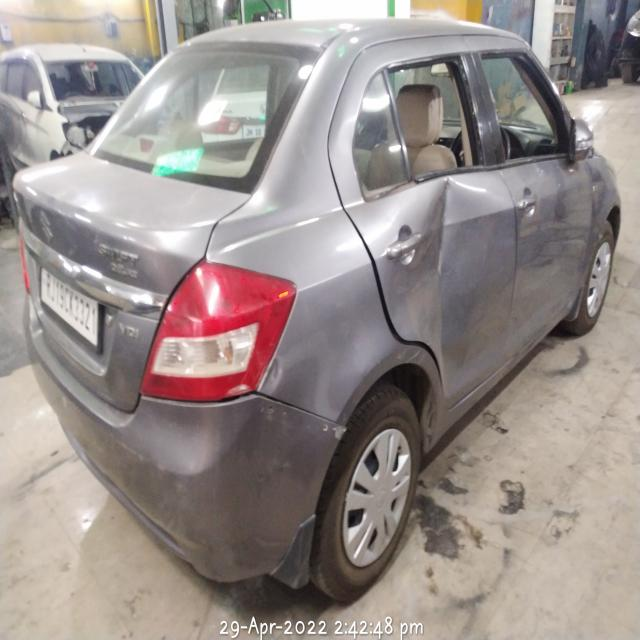damage: (400, 181, 493, 360), (251, 395, 346, 451), (260, 360, 299, 401)
